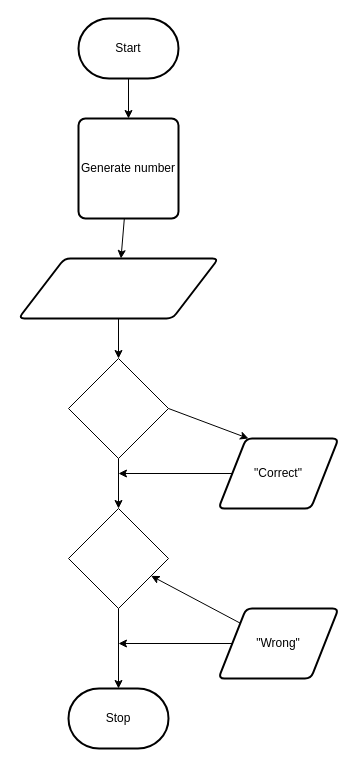
Some shapes in this 356 by 766 pixel diagram are drawn without their labels. Here are the shapes that lost their labels. From the top down, the centre of each, then its label:
[118,288]: Get slider value
[118,408]: if sliderValue == randomNumver
[118,558]: if sliderValue != randomNumver
